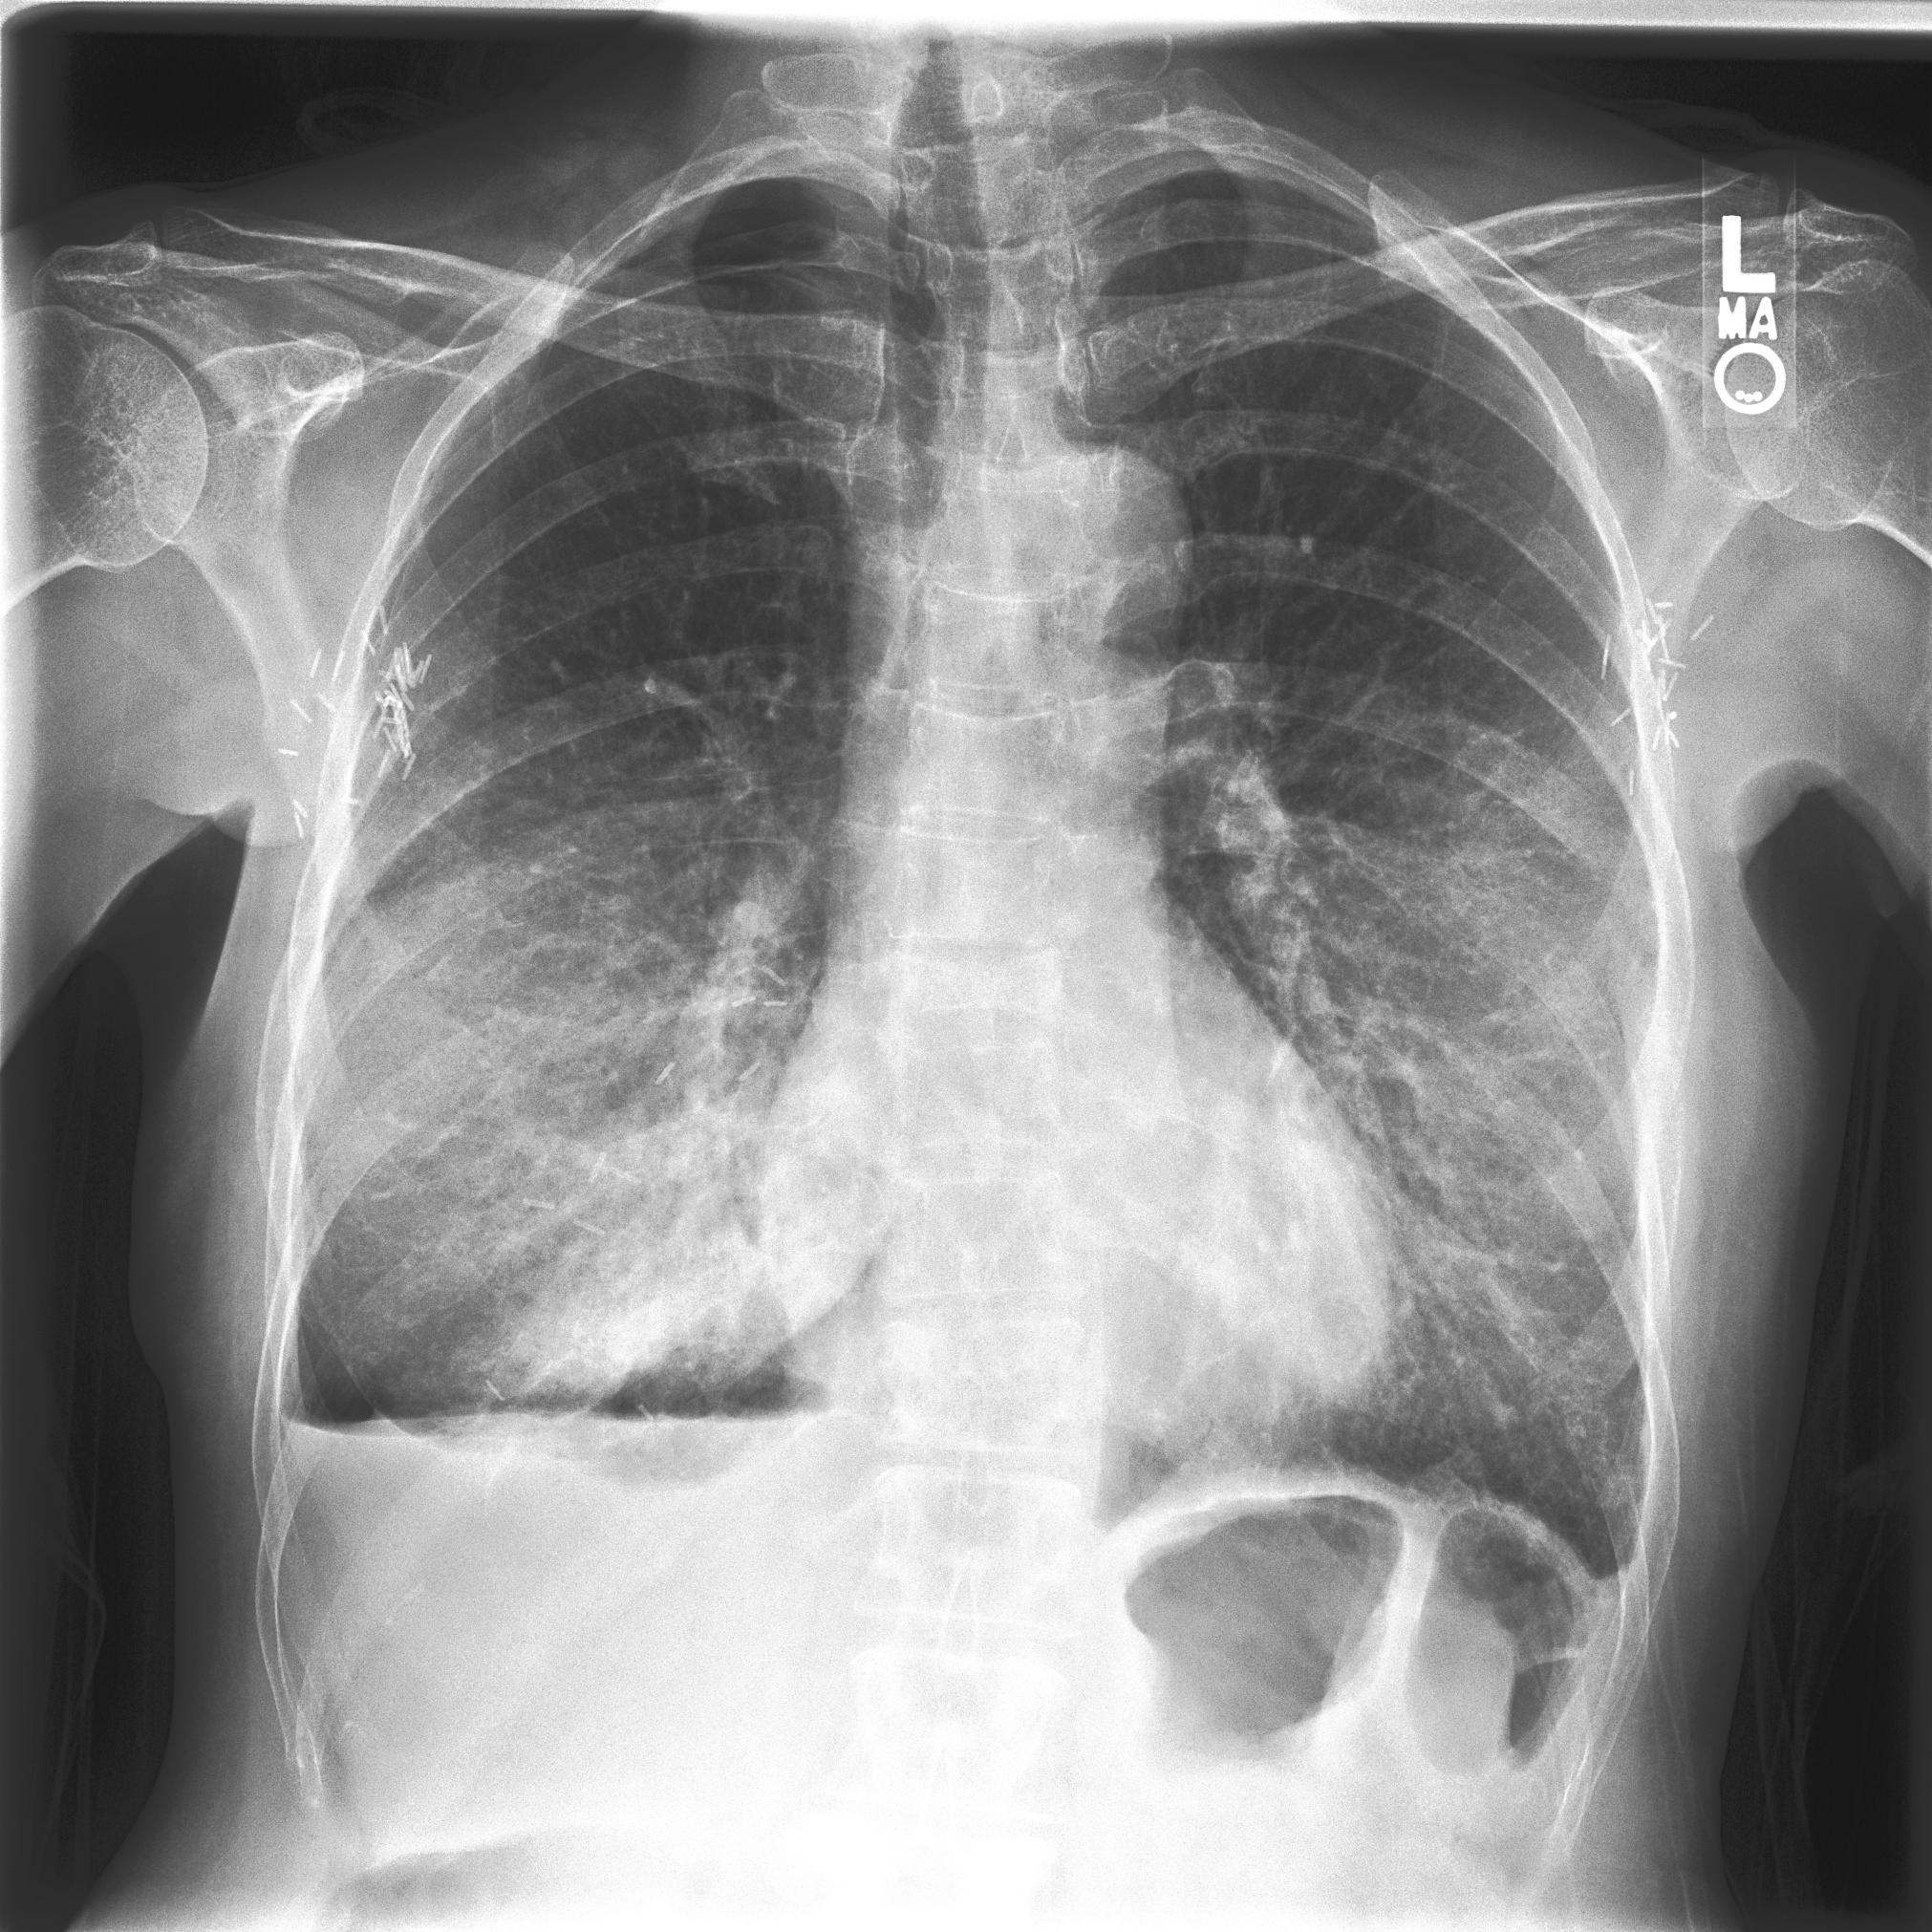Pleural Effusion: (276, 1399, 732, 1748)
